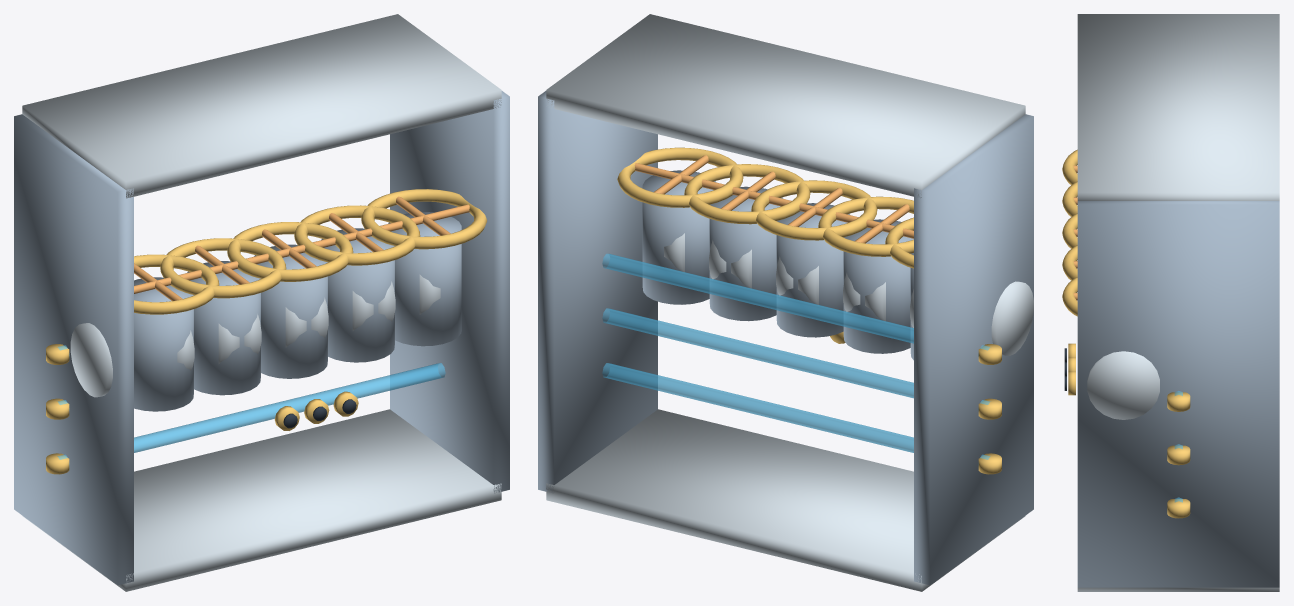
File: 47_L89_WaterDistributionValveManifold.fbx
3 renders of one model, left to right at view 1: azimuth 30°, elevation 25°; view 2: azimuth 150°, elevation 25°; view 3: azimuth 270°, elevation 25°, orthographic. The views are drawn at different scales.
Visible parts, largest first — view 1: L87_WaterDistributionValveMan_Part_0000, L87_WaterDistributionValveMan_Part_0001, L87_WaterDistributionValveMan_Part_0002, L87_WaterDistributionValveMan_Part_0006, L87_WaterDistributionValveMan_Part_0003, L87_WaterDistributionValveMan_Part_0004, L87_WaterDistributionValveMan_Part_0005; view 2: L87_WaterDistributionValveMan_Part_0000, L87_WaterDistributionValveMan_Part_0001, L87_WaterDistributionValveMan_Part_0006, L87_WaterDistributionValveMan_Part_0002, L87_WaterDistributionValveMan_Part_0004, L87_WaterDistributionValveMan_Part_0003, L87_WaterDistributionValveMan_Part_0005; view 3: L87_WaterDistributionValveMan_Part_0000, L87_WaterDistributionValveMan_Part_0001, L87_WaterDistributionValveMan_Part_0002, L87_WaterDistributionValveMan_Part_0004.
Boxes of the visible parts, <box> form: L87_WaterDistributionValveMan_Part_0000: <box>14,91,509,585</box>; L87_WaterDistributionValveMan_Part_0001: <box>22,14,501,591</box>; L87_WaterDistributionValveMan_Part_0002: <box>46,189,487,474</box>; L87_WaterDistributionValveMan_Part_0006: <box>57,345,445,465</box>; L87_WaterDistributionValveMan_Part_0003: <box>134,196,469,301</box>; L87_WaterDistributionValveMan_Part_0004: <box>227,222,353,281</box>; L87_WaterDistributionValveMan_Part_0005: <box>246,229,335,268</box>; L87_WaterDistributionValveMan_Part_0000: <box>538,91,1033,585</box>; L87_WaterDistributionValveMan_Part_0001: <box>546,14,1033,591</box>; L87_WaterDistributionValveMan_Part_0006: <box>602,253,990,465</box>; L87_WaterDistributionValveMan_Part_0002: <box>617,147,1001,474</box>; L87_WaterDistributionValveMan_Part_0004: <box>751,180,877,240</box>; L87_WaterDistributionValveMan_Part_0003: <box>634,155,913,243</box>; L87_WaterDistributionValveMan_Part_0005: <box>768,188,858,226</box>; L87_WaterDistributionValveMan_Part_0000: <box>1077,201,1279,587</box>; L87_WaterDistributionValveMan_Part_0001: <box>1077,14,1279,591</box>; L87_WaterDistributionValveMan_Part_0002: <box>1062,149,1190,518</box>; L87_WaterDistributionValveMan_Part_0004: <box>1062,213,1077,248</box>.
Bounding box in the file's own units: 2.63 × 2.4 × 1.19.
